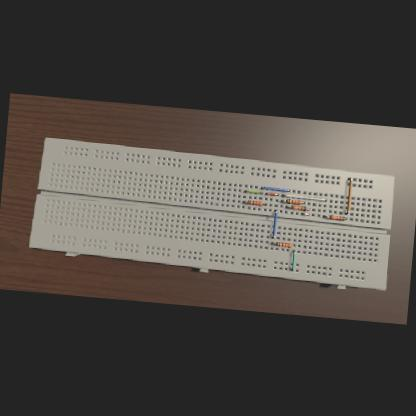breadboard: (27, 136, 396, 292)
resistor: (328, 213, 344, 219), (290, 204, 306, 210), (275, 241, 291, 246), (285, 198, 301, 203), (246, 200, 261, 204)
wire: (281, 193, 326, 200), (344, 177, 351, 213), (260, 184, 288, 190), (272, 209, 276, 237), (289, 249, 294, 270), (243, 188, 260, 192), (264, 191, 276, 194), (300, 212, 308, 214), (284, 205, 290, 207), (242, 200, 246, 202), (280, 199, 286, 200), (271, 242, 276, 243), (291, 244, 293, 245), (306, 207, 308, 208), (262, 202, 264, 203), (345, 218, 346, 219), (301, 202, 303, 202)
